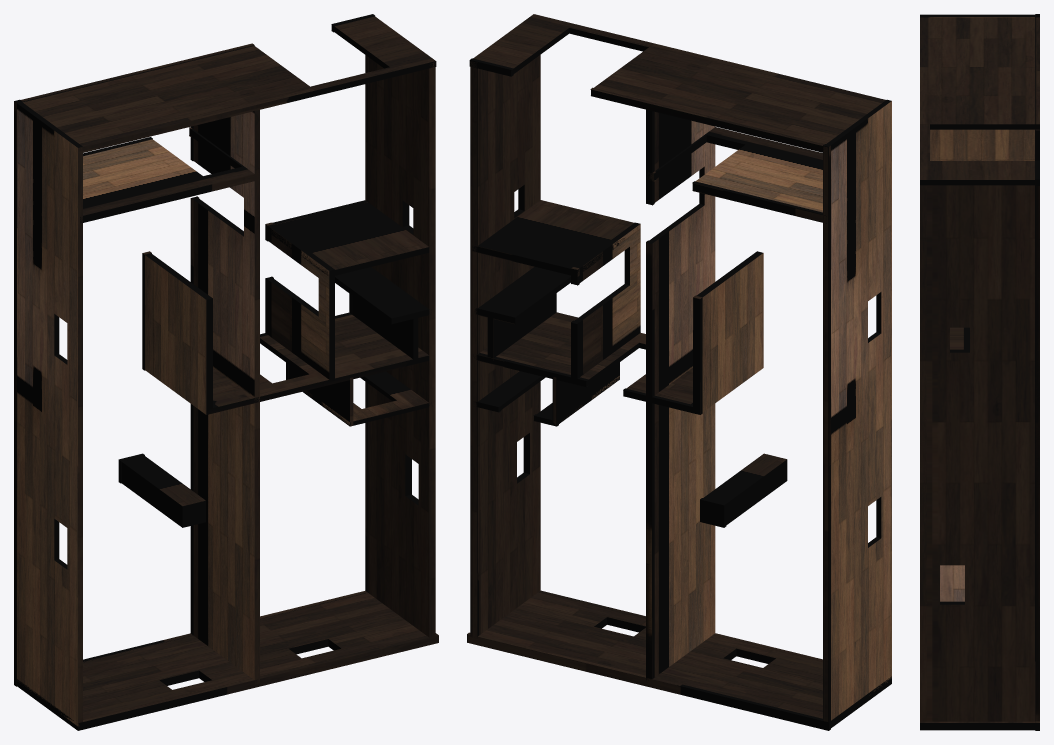
File: wall_vm.obj
3 views of the same model, side by side, from view 1: azimuth 30°, elevation 25°; view 2: azimuth 150°, elevation 25°; view 3: azimuth 270°, elevation 25° (orthographic). The views are drawn at different scales.
Bounding box in the file's own units: 7.89 × 12.17 × 2.4.
